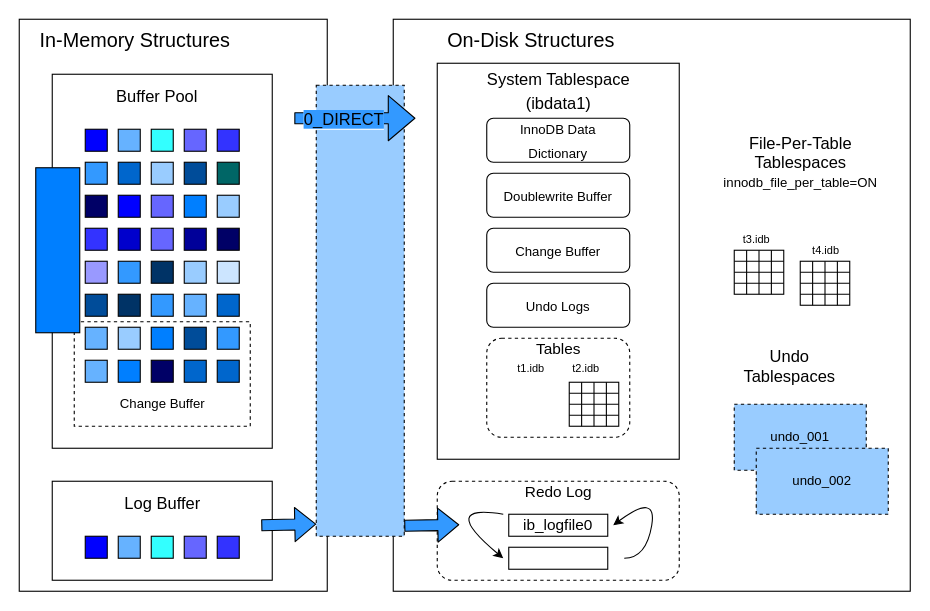
This 930x611 diagram has some shape labels left out. The centre of each missing label's shape, as x and y in pixels:
Adaptive Hash Index: [57,250]
ib_logfile1: [558,557]
Operating System Cache: [359,310]
